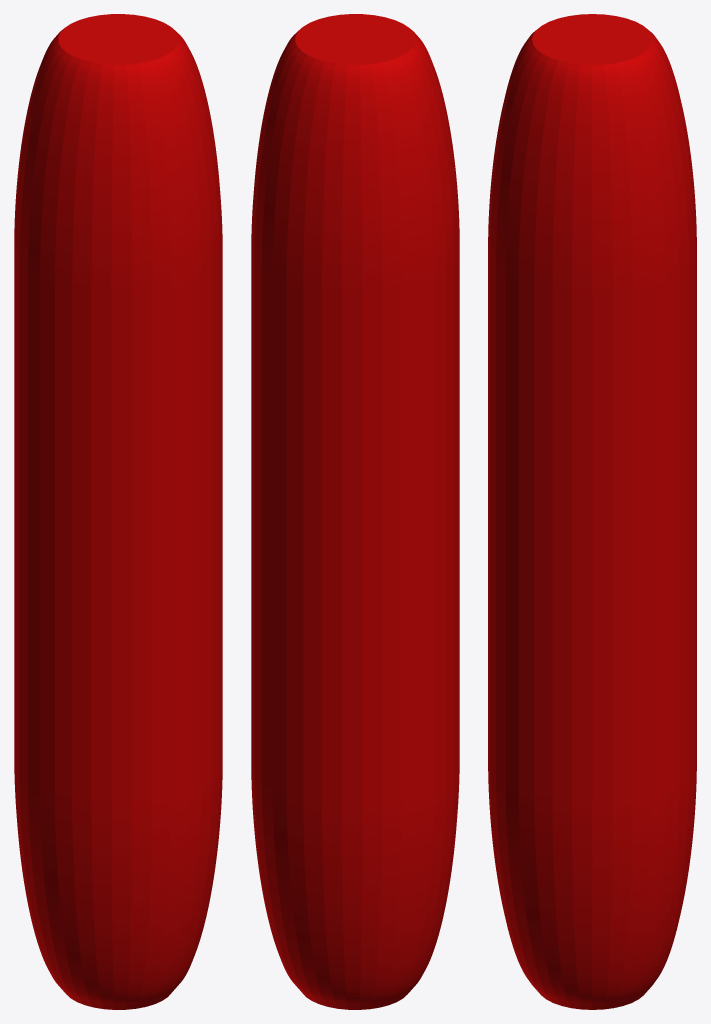
The model's file is laser_projectile.obj.
3 views of the same model, side by side, from view 1: azimuth 30°, elevation 25°; view 2: azimuth 150°, elevation 25°; view 3: azimuth 270°, elevation 25° (orthographic).
Parts seen in each view (by area): view 1: Cylinder; view 2: Cylinder; view 3: Cylinder.
Boxes of the visible parts, left/top/right/bottom form: Cylinder: left=14, top=14, right=222, bottom=1009; Cylinder: left=251, top=14, right=459, bottom=1009; Cylinder: left=488, top=14, right=696, bottom=1009.
Size of the model in its own units: 0.1237 by 0.6186 by 0.1237.
